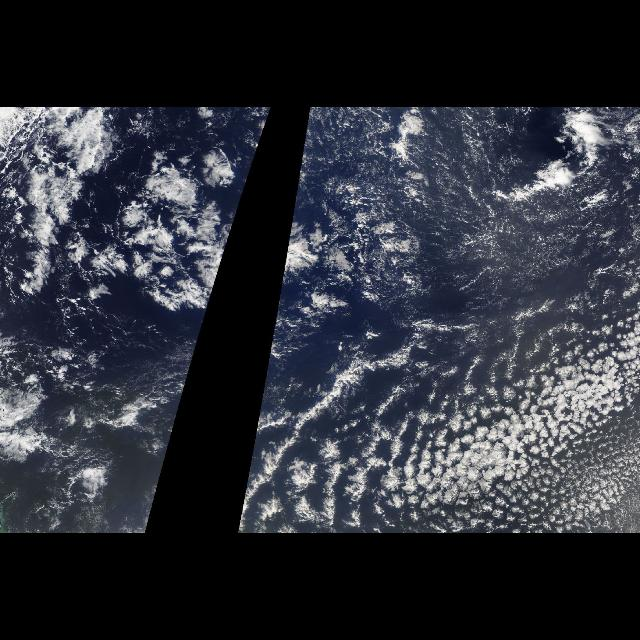Flower: (356, 316, 632, 506)
Sugar: (308, 108, 634, 276)
